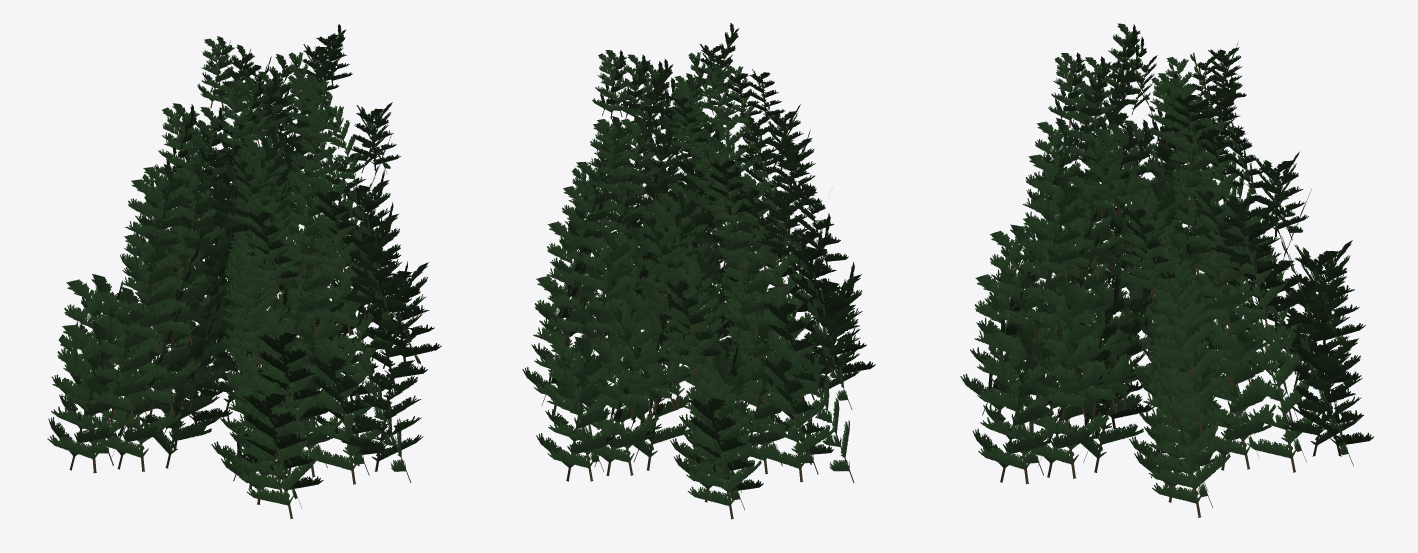
The model's file is SM_Art_Veg_Pine_0_Needles.gltf.
The picture shows the model from 3 angles, left to right: view 1: azimuth 30°, elevation 25°; view 2: azimuth 150°, elevation 25°; view 3: azimuth 270°, elevation 25°; orthographic projection. The views are drawn at different scales.
Visible parts, largest first — view 1: SM_Art_Veg_Pine_0_Needles; view 2: SM_Art_Veg_Pine_0_Needles; view 3: SM_Art_Veg_Pine_0_Needles.
Boxes of the visible parts, x1,y1,x2,y2 form: SM_Art_Veg_Pine_0_Needles: (47,24,441,519); SM_Art_Veg_Pine_0_Needles: (522,23,875,519); SM_Art_Veg_Pine_0_Needles: (960,23,1373,517).
Size of the model in its own units: 6.37 by 5.86 by 6.12.
1 material, 1 textured.
